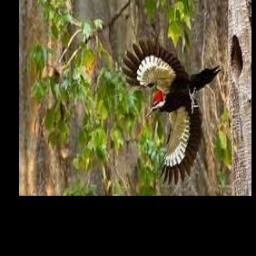Woodpecker: (119, 38, 221, 182)
